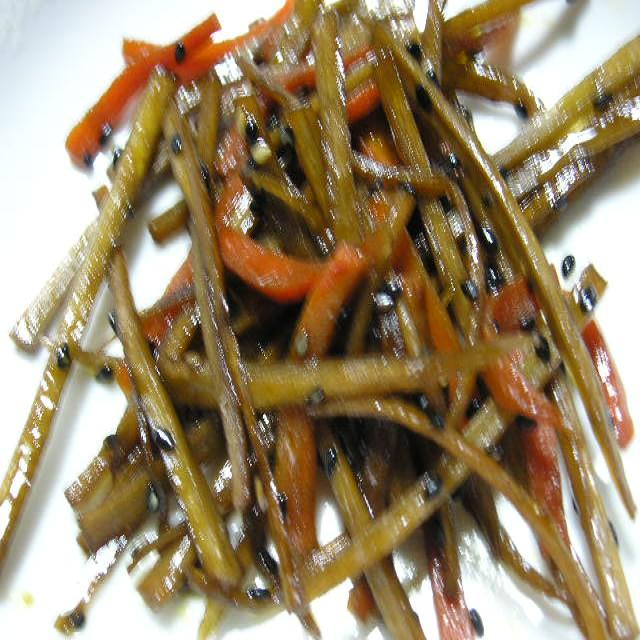蔬菜料理: (12, 21, 632, 608)
